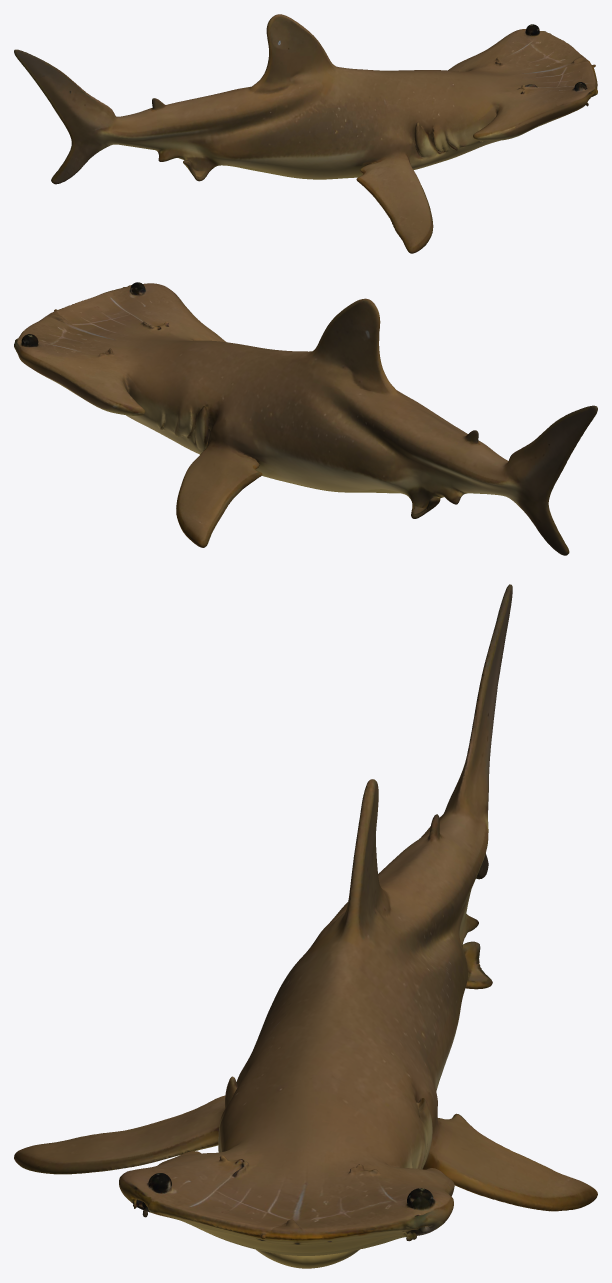
The picture shows the model from 3 angles, top to bottom: view 1: azimuth 30°, elevation 25°; view 2: azimuth 150°, elevation 25°; view 3: azimuth 270°, elevation 25°; orthographic projection. The views are drawn at different scales.
Parts seen in each view (by area): view 1: tripo_node_6ec5530a-885b-4c08-b12f-2fdb1bf67b11; view 2: tripo_node_6ec5530a-885b-4c08-b12f-2fdb1bf67b11; view 3: tripo_node_6ec5530a-885b-4c08-b12f-2fdb1bf67b11.
Part boxes in pixels (x1,y1,x2,y2): tripo_node_6ec5530a-885b-4c08-b12f-2fdb1bf67b11: (14, 14, 597, 253); tripo_node_6ec5530a-885b-4c08-b12f-2fdb1bf67b11: (14, 282, 597, 555); tripo_node_6ec5530a-885b-4c08-b12f-2fdb1bf67b11: (14, 584, 597, 1268).
Size of the model in its own units: 1 by 0.3379 by 0.5169.
Materials: 1 (1 with a texture image).
